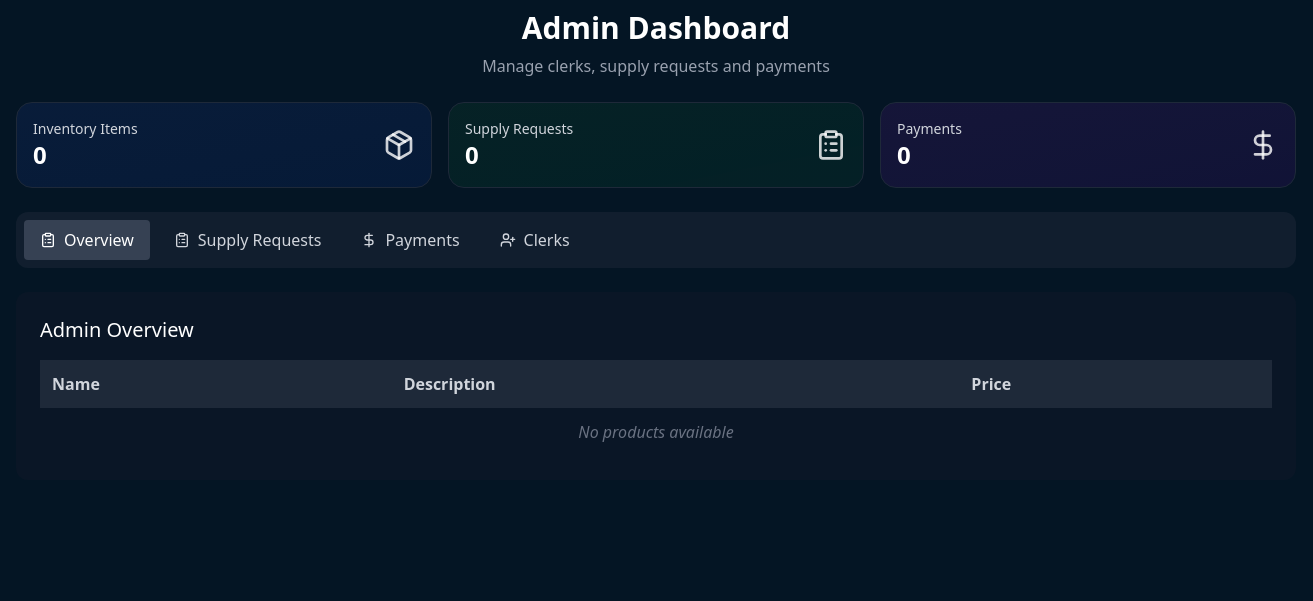
Test: AdminDashboard › switches to Clerks tab
Click the button "Clerks" at {"x": 535, "y": 240}, box x1=484 y1=220 x2=586 y2=260
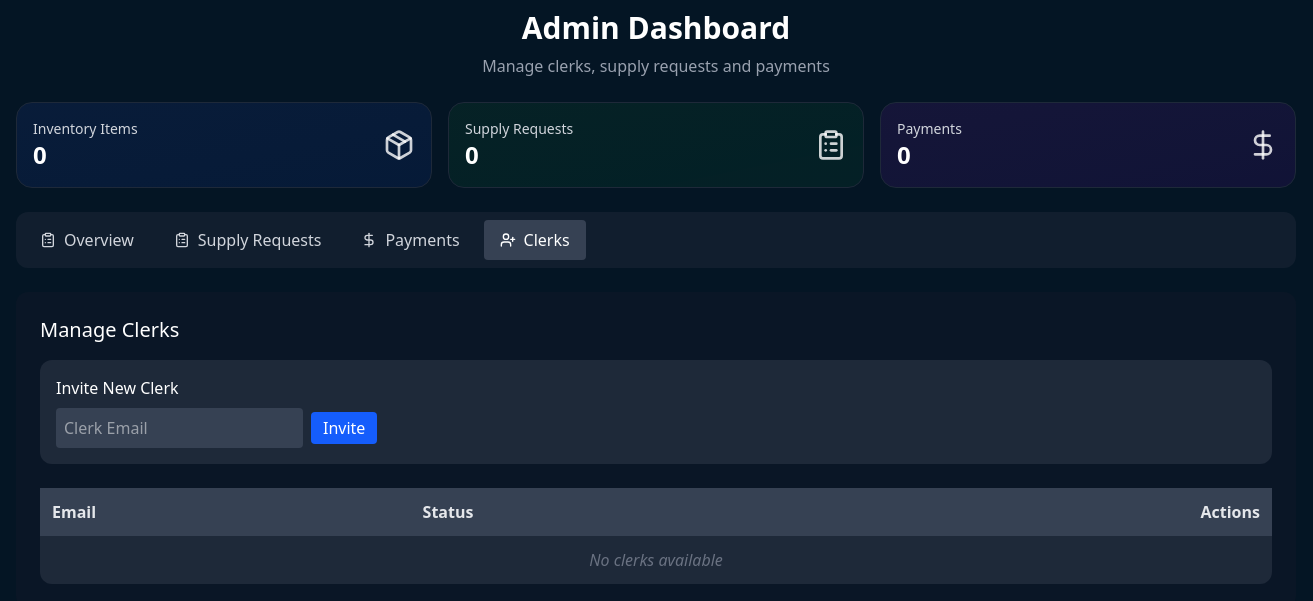
Expected: the heading "Invite New Clerk" is shown, x1=56 y1=377 x2=178 y2=399
